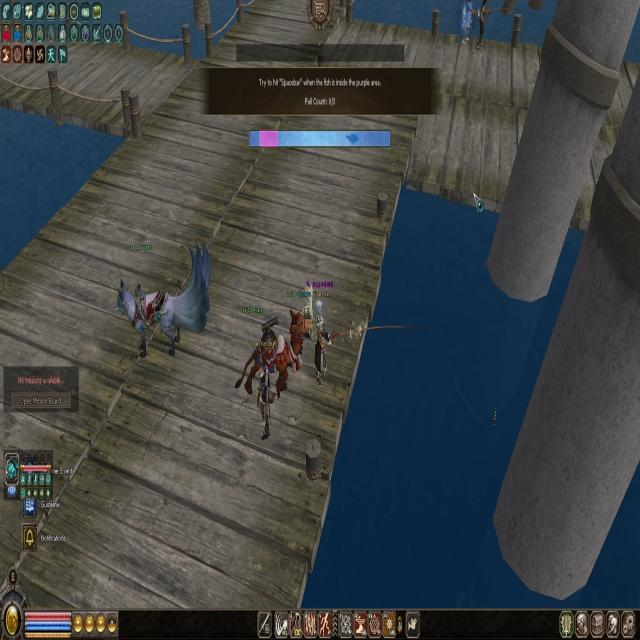box: (260, 131, 278, 147)
fishes: (349, 135, 357, 143)
